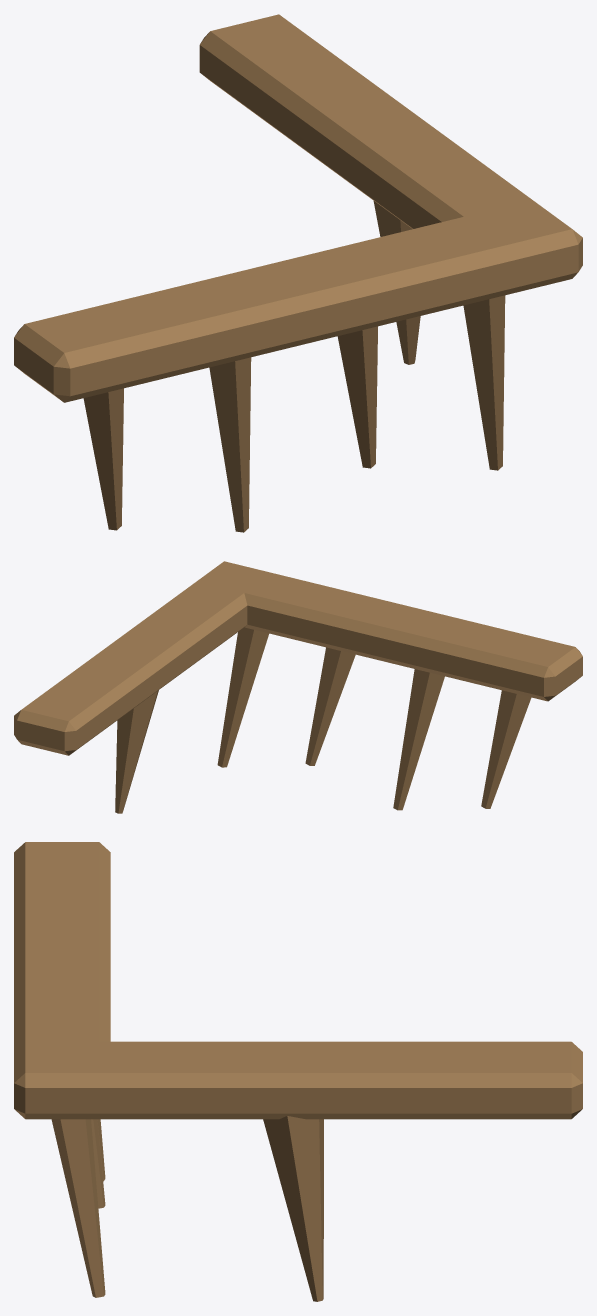
The model's file is beira_canto.glb.
The picture shows the model from 3 angles, top to bottom: view 1: azimuth 30°, elevation 25°; view 2: azimuth 150°, elevation 25°; view 3: azimuth 270°, elevation 25°; orthographic projection. The views are drawn at different scales.
Visible parts, largest first — view 1: deserto_beira_canto; view 2: deserto_beira_canto; view 3: deserto_beira_canto.
Boxes of the visible parts, bbox=[...] form: deserto_beira_canto: bbox=[14, 14, 582, 532]; deserto_beira_canto: bbox=[14, 561, 582, 813]; deserto_beira_canto: bbox=[14, 842, 582, 1301].
Size of the model in its own units: 1 by 0.4671 by 1.
